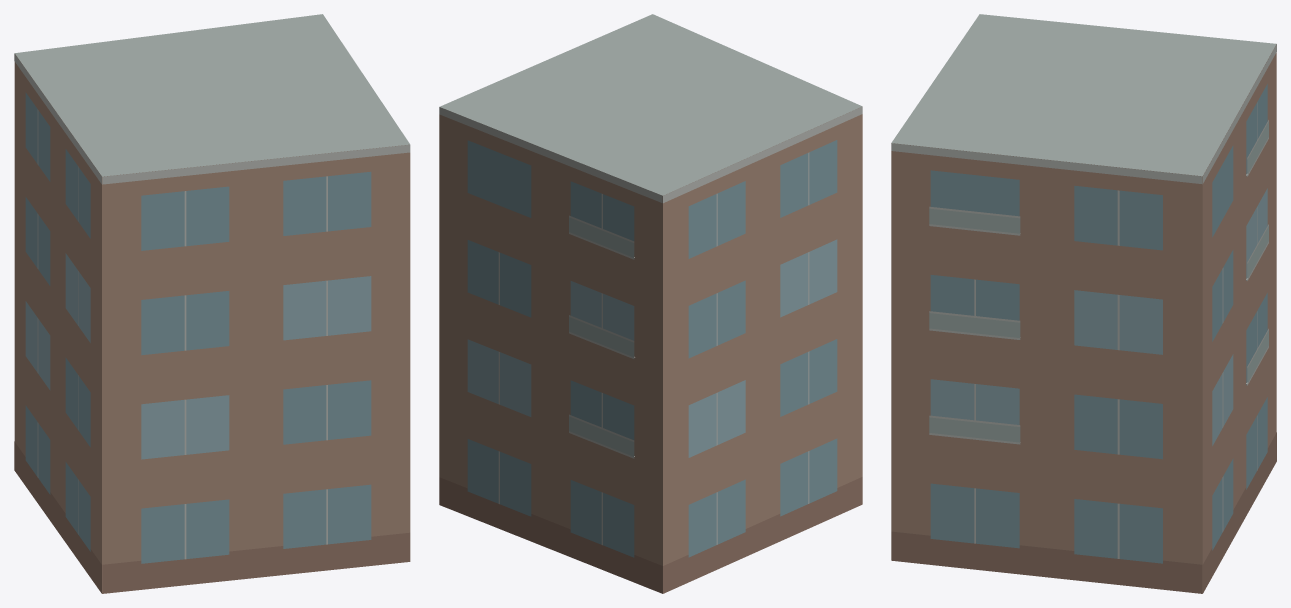
Rendered from survey-upis-32751865.glb.
3 views of the same model, side by side, from view 1: azimuth 30°, elevation 25°; view 2: azimuth 150°, elevation 25°; view 3: azimuth 270°, elevation 25° (orthographic). The views are drawn at different scales.
Visible parts, largest first — view 1: survey-upis-32751865.tmp; view 2: survey-upis-32751865.tmp; view 3: survey-upis-32751865.tmp.
Boxes of the visible parts, x1=… form: survey-upis-32751865.tmp: x1=14, y1=14, x2=410, y2=593; survey-upis-32751865.tmp: x1=439, y1=14, x2=862, y2=593; survey-upis-32751865.tmp: x1=891, y1=14, x2=1276, y2=593.
Bounding box in the file's own units: 10.68 × 12.8 × 10.72.
